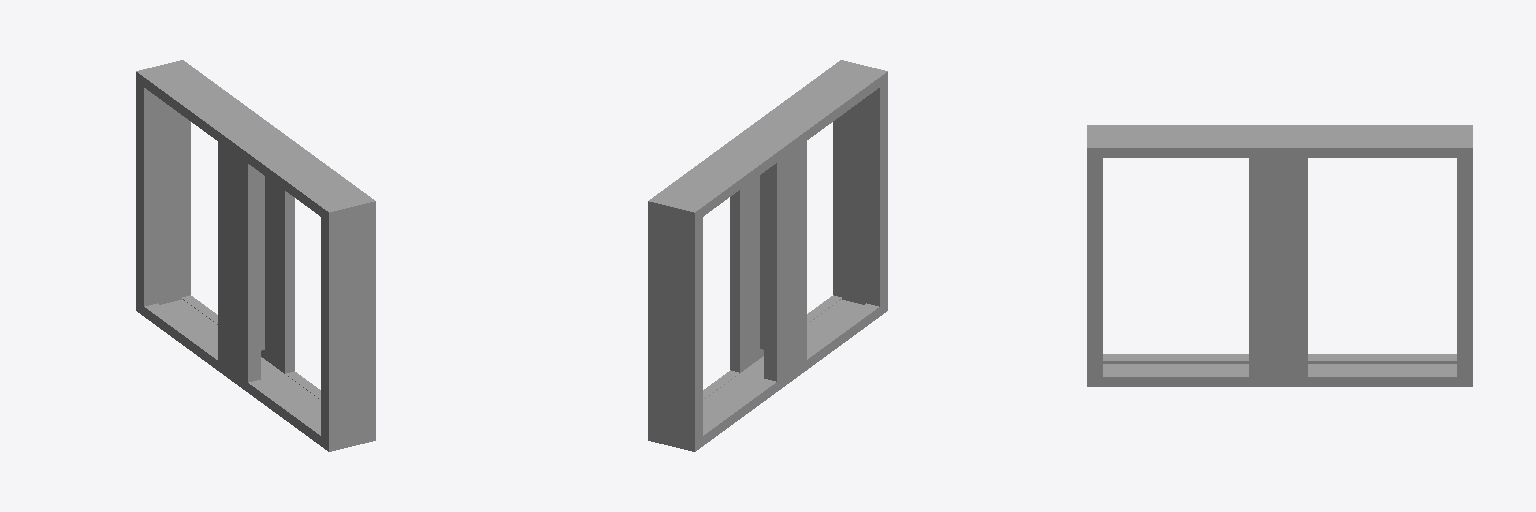
The model's file is wall3.obj.
3 renders of one model, left to right at view 1: azimuth 30°, elevation 25°; view 2: azimuth 150°, elevation 25°; view 3: azimuth 270°, elevation 25°, orthographic.
Parts seen in each view (by area): view 1: Cube.002; view 2: Cube.002; view 3: Cube.002.
Part boxes in pixels (left/top/right/bottom): Cube.002: left=136, top=60, right=375, bottom=451; Cube.002: left=648, top=60, right=887, bottom=451; Cube.002: left=1087, top=125, right=1472, bottom=386.
Bounding box in the file's own units: 0.1451 × 0.7069 × 1.03.